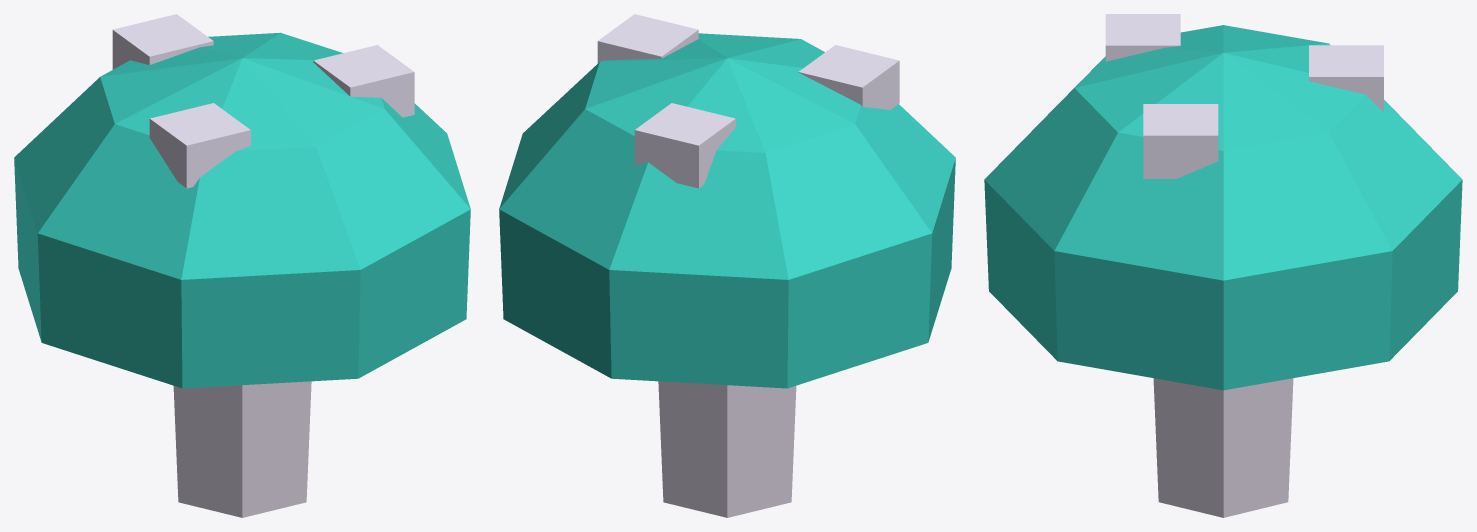
The model's file is env_r12_glow_mushroom.glb.
3 renders of one model, left to right at view 1: azimuth 30°, elevation 25°; view 2: azimuth 150°, elevation 25°; view 3: azimuth 270°, elevation 25°, orthographic.
Visible parts, largest first — view 1: env_r12_glow_mushroom; view 2: env_r12_glow_mushroom; view 3: env_r12_glow_mushroom.
Boxes of the visible parts, left/top/right/bottom form: env_r12_glow_mushroom: left=14, top=14, right=470, bottom=517; env_r12_glow_mushroom: left=499, top=14, right=955, bottom=517; env_r12_glow_mushroom: left=984, top=14, right=1462, bottom=517.
Size of the model in its own units: 1.2 by 1.2 by 1.2.
1 material, 1 textured.
